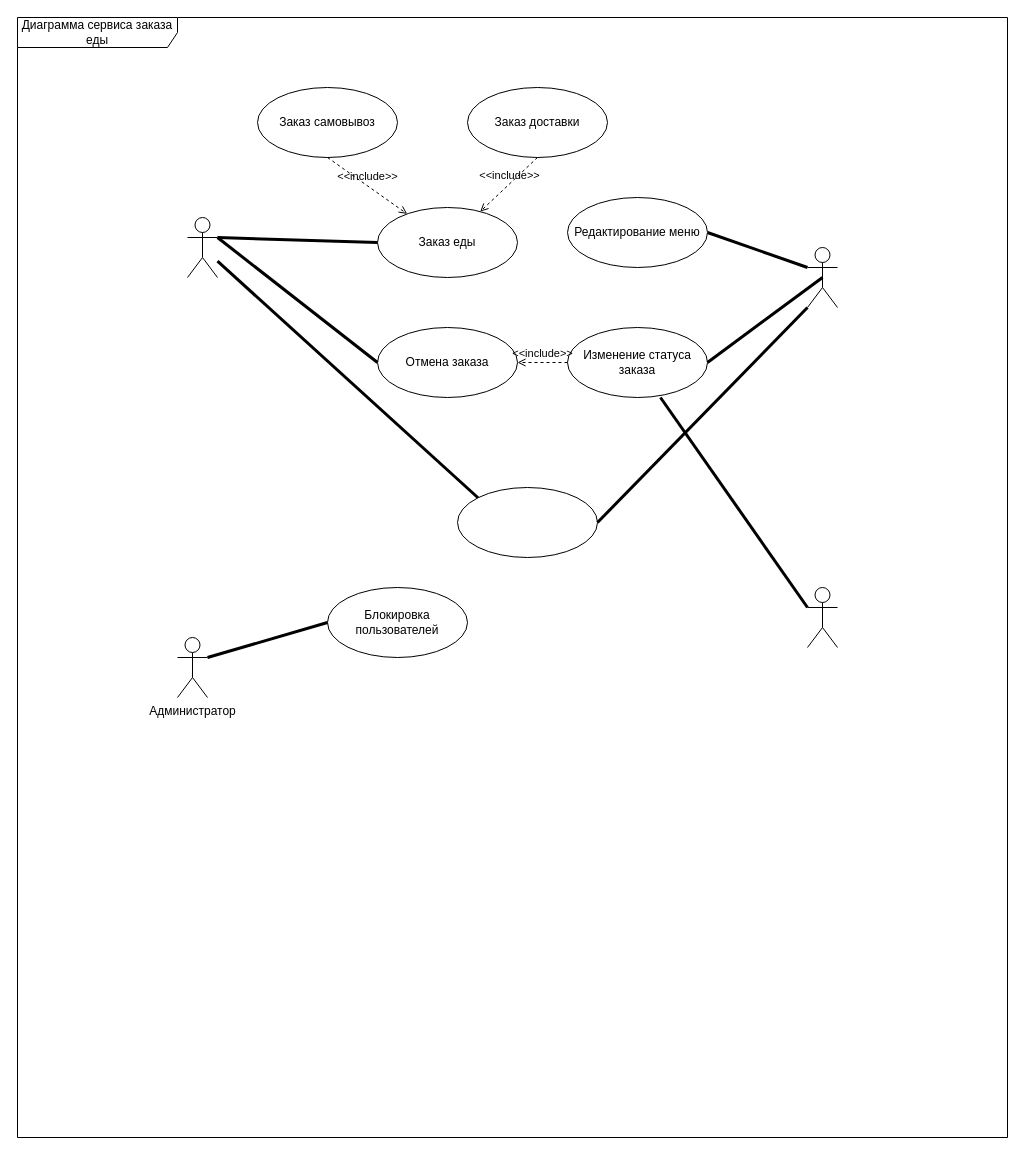
The diagram is 1025 pixels wide and 1155 high, and some of its shapes have lost their labels. The box of each missing label's shape, as (x1, y1, x2, y2) in pixels:
Курьер: (806, 586, 838, 648)
Покупатель: (186, 216, 218, 278)
Регистрация в системе: (456, 486, 598, 558)
Ресторан: (806, 246, 838, 308)
